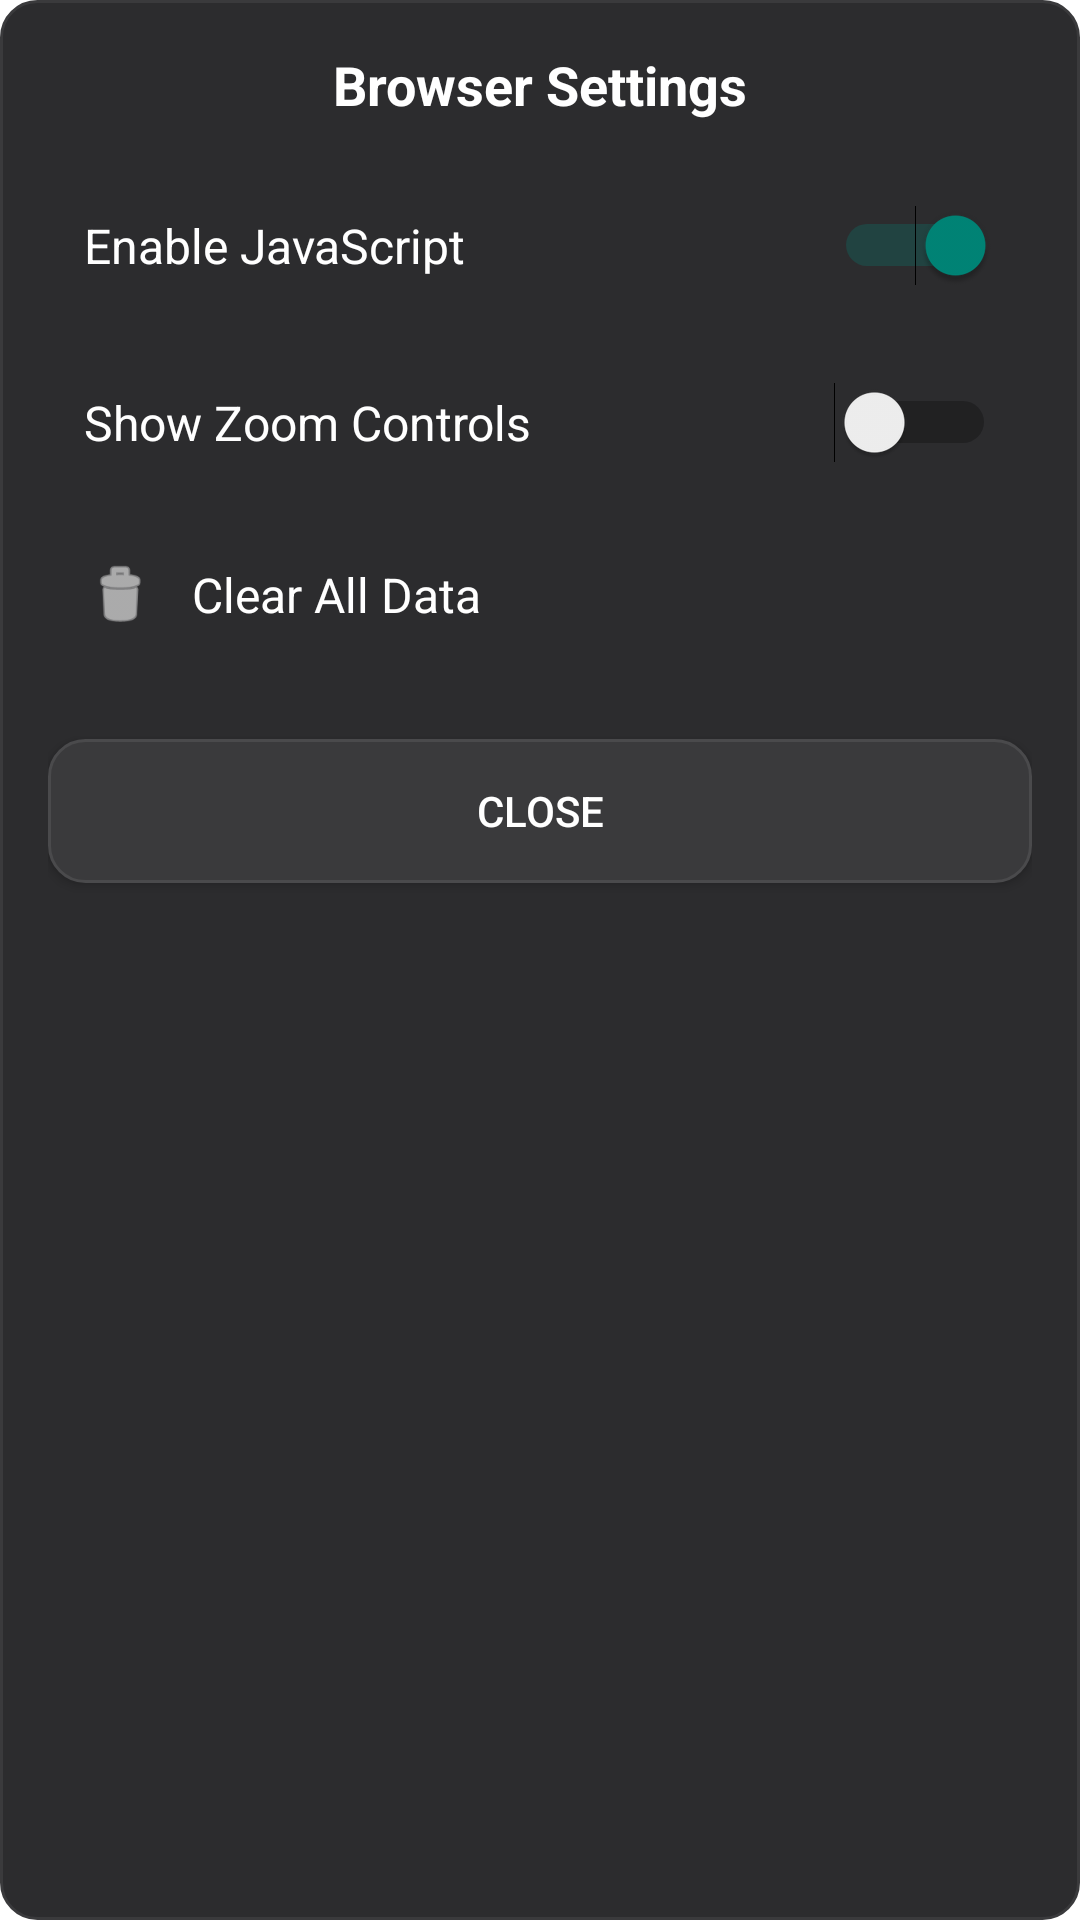

Point at icon controls on the screen. Image size 1080 x 1920, points as (x,y).
delete: (120,594)
